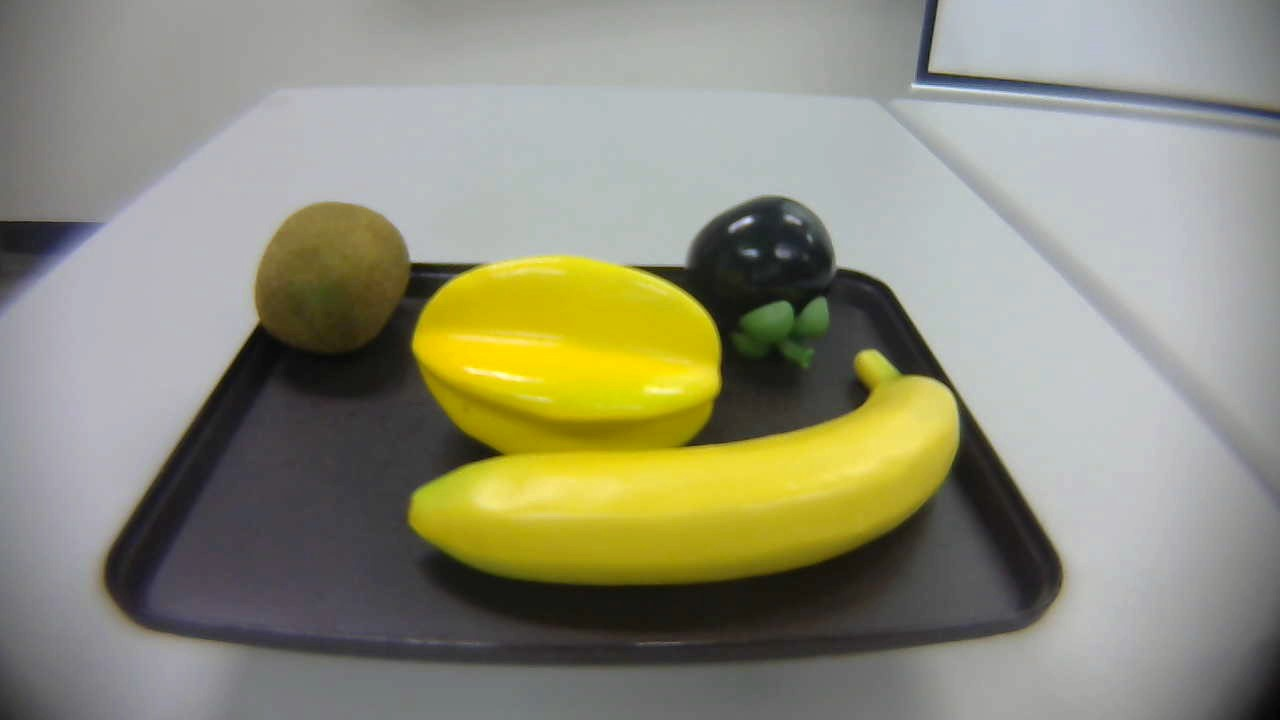banana: (390, 344, 992, 601)
kiwi fruit: (245, 199, 413, 363)
mangosteen: (686, 191, 847, 386)
star fruit: (403, 258, 735, 484)
